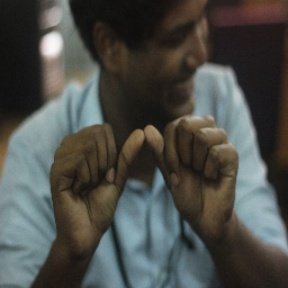A: (81, 113, 212, 228)
